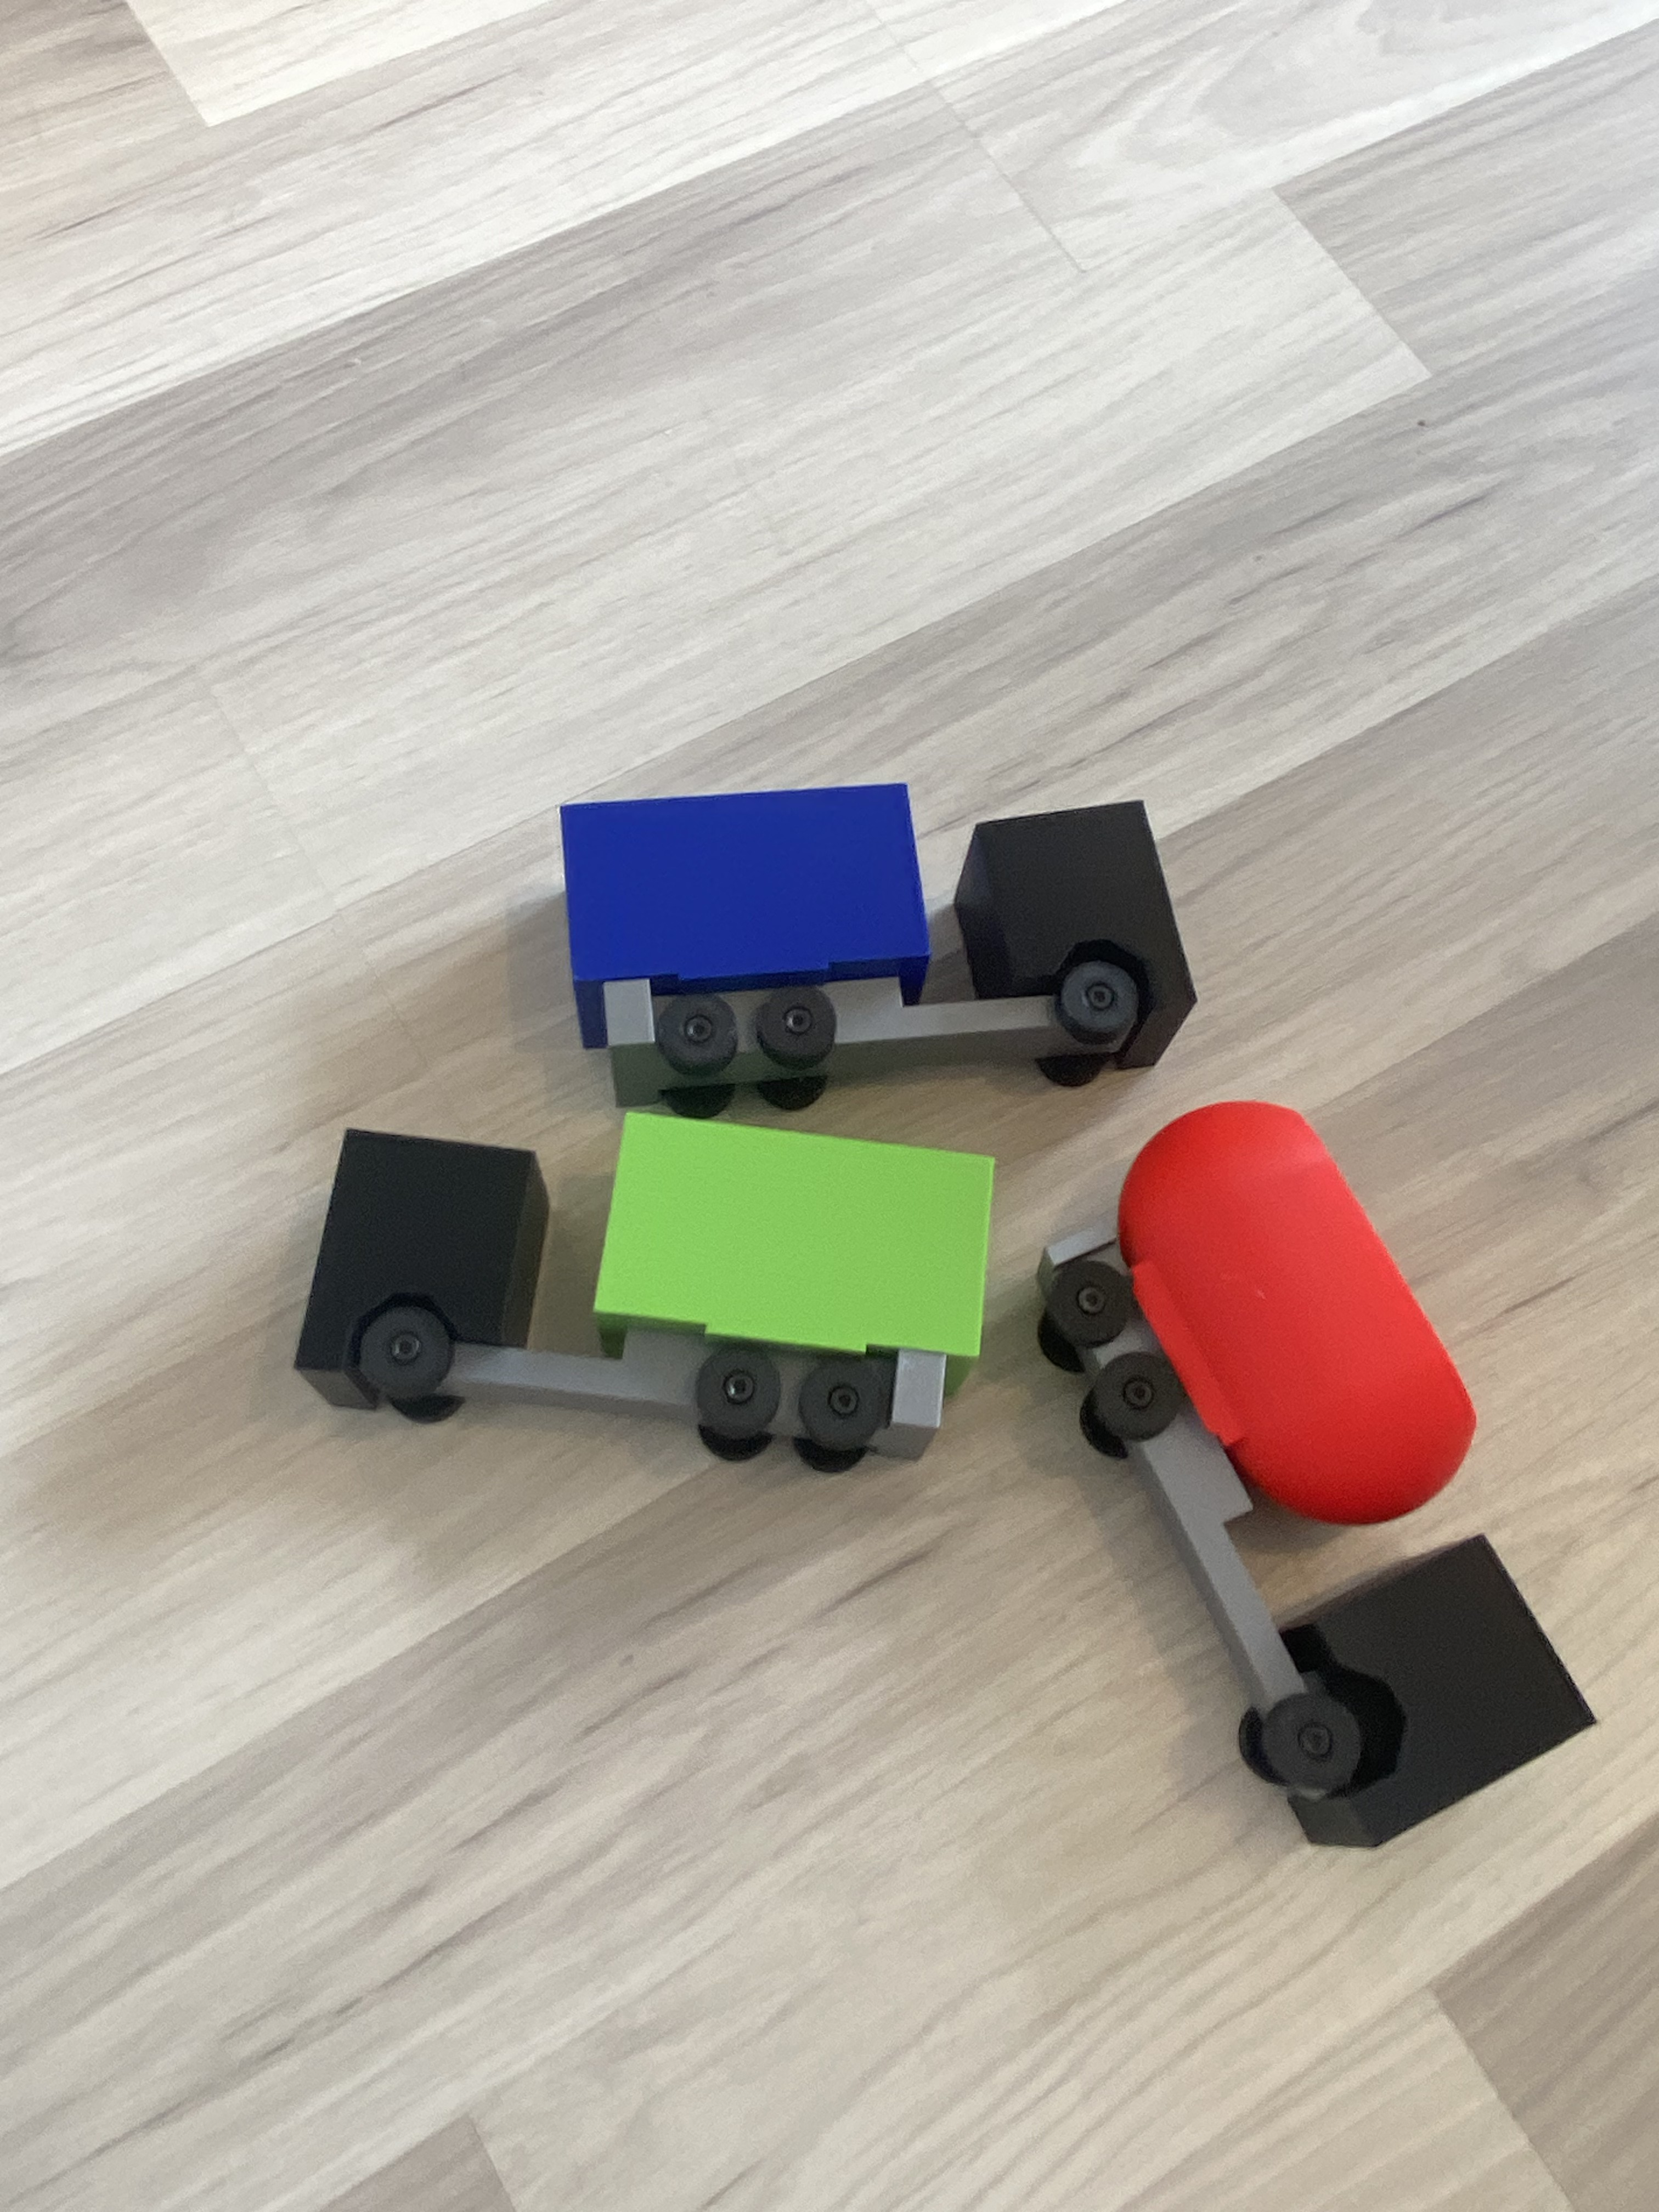blue_truck: (551, 745, 1192, 1096)
green_truck: (484, 942, 824, 1615)
red_truck: (1105, 1096, 1485, 1846)
